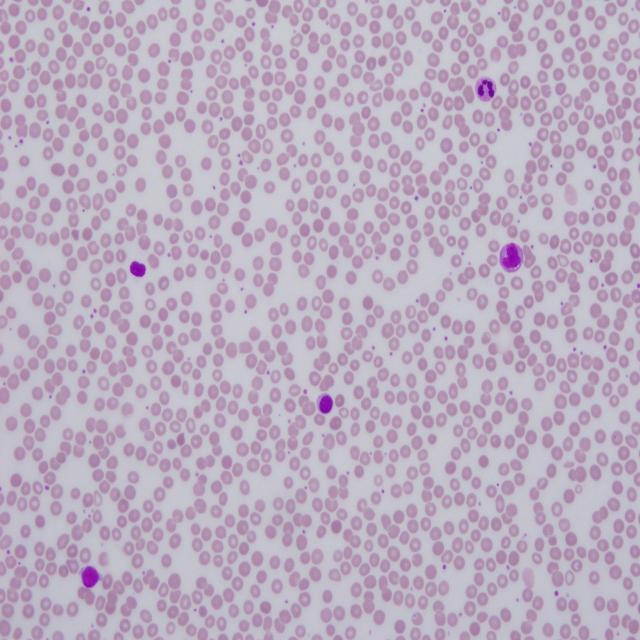cell: (475, 76, 496, 102)
